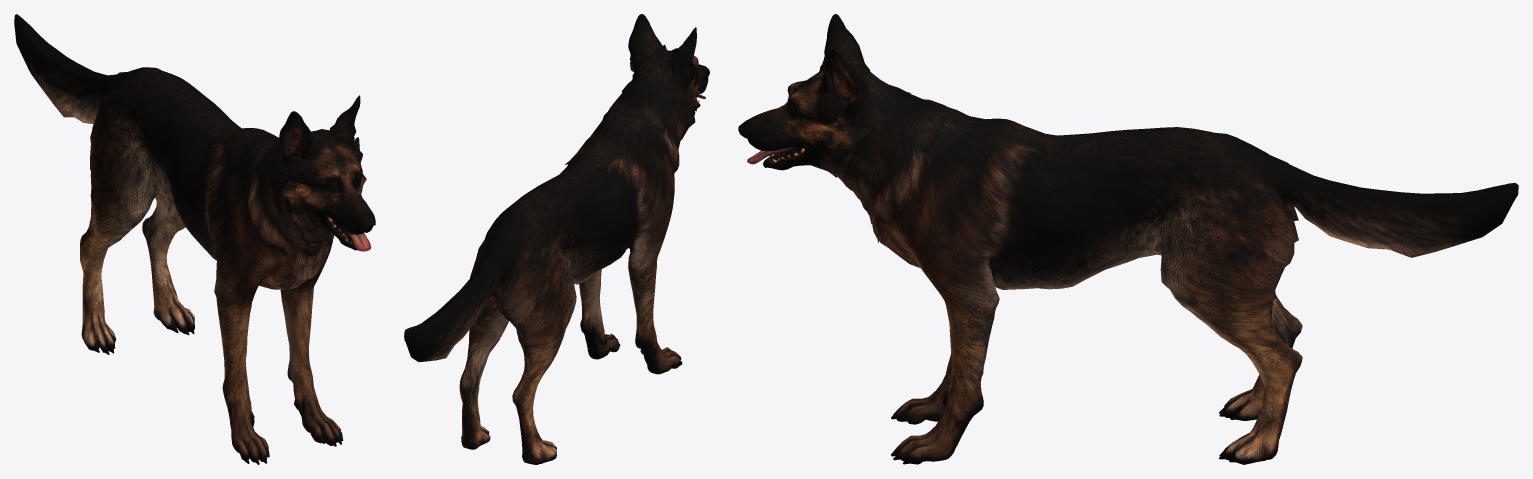
Rendered from dogD.obj.
3 renders of one model, left to right at view 1: azimuth 30°, elevation 25°; view 2: azimuth 150°, elevation 25°; view 3: azimuth 270°, elevation 25°, orthographic. The views are drawn at different scales.
Parts seen in each view (by area): view 1: dogD:Mesh dogD:group dogD:polySurface1 group; view 2: dogD:Mesh dogD:group dogD:polySurface1 group; view 3: dogD:Mesh dogD:group dogD:polySurface1 group.
Boxes of the visible parts, x1,y1,x2,y2 form: dogD:Mesh dogD:group dogD:polySurface1 group: [14, 14, 375, 464]; dogD:Mesh dogD:group dogD:polySurface1 group: [404, 14, 709, 464]; dogD:Mesh dogD:group dogD:polySurface1 group: [738, 14, 1518, 464].
Bounding box in the file's own units: 26.88 × 88.95 × 154.
7 materials, 7 textured.
